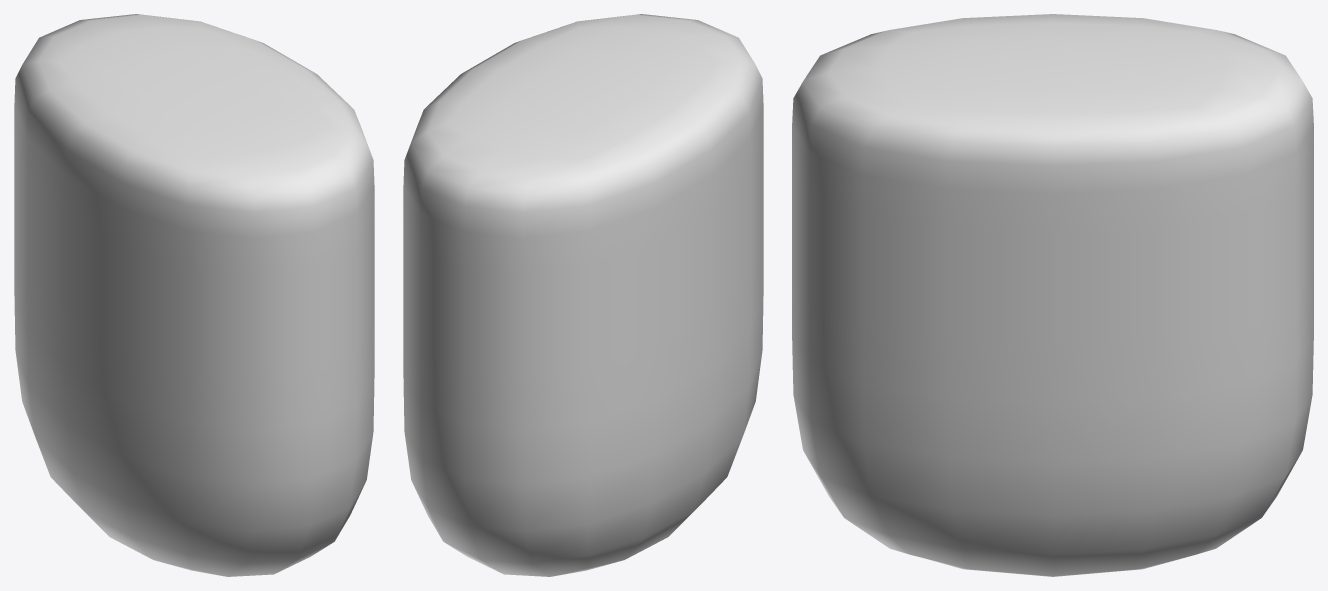
3 renders of one model, left to right at view 1: azimuth 30°, elevation 25°; view 2: azimuth 150°, elevation 25°; view 3: azimuth 270°, elevation 25°, orthographic. The views are drawn at different scales.
Parts seen in each view (by area): view 1: Cube.044; view 2: Cube.044; view 3: Cube.044.
Part boxes in pixels (bbox=[...]): Cube.044: bbox=[14, 14, 374, 576]; Cube.044: bbox=[403, 14, 763, 576]; Cube.044: bbox=[792, 14, 1313, 576].
Size of the model in its own units: 0.0222 by 0.0376 by 0.036.
Materials: 1 (1 with a texture image).
